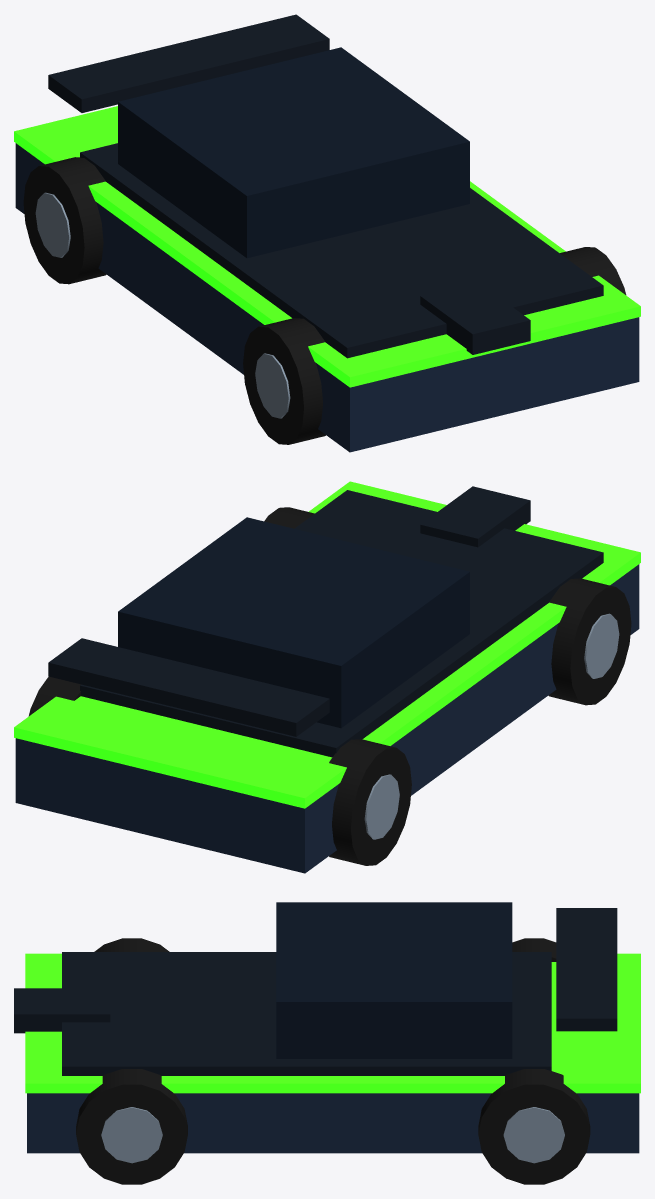
File: threshold_child_runner.glb
3 renders of one model, top to bottom at view 1: azimuth 30°, elevation 25°; view 2: azimuth 150°, elevation 25°; view 3: azimuth 270°, elevation 25°, orthographic. The views are drawn at different scales.
Visible parts, largest first — view 1: Threshold Runner; view 2: Threshold Runner; view 3: Threshold Runner.
Part boxes in pixels (x1,y1,x2,y2): Threshold Runner: [14, 14, 640, 452]; Threshold Runner: [14, 481, 640, 873]; Threshold Runner: [14, 902, 640, 1184].
Bounding box in the file's own units: 2 × 1.01 × 3.58.
